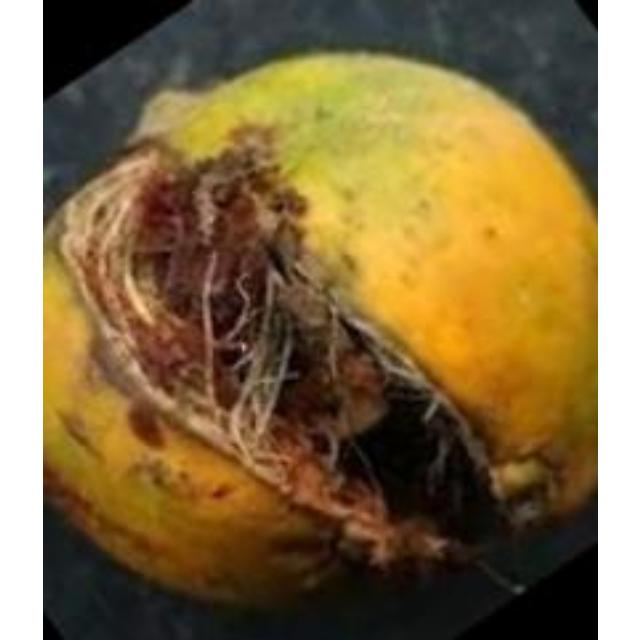damaged: (42, 45, 594, 624)
